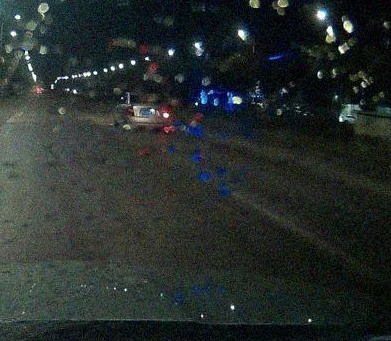L_light: (125, 106, 134, 116)
R_light: (161, 107, 170, 118)
T_light: (143, 94, 150, 97)
night-right: (124, 92, 171, 131)
